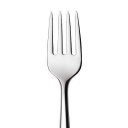fork: (42, 6, 93, 128)
